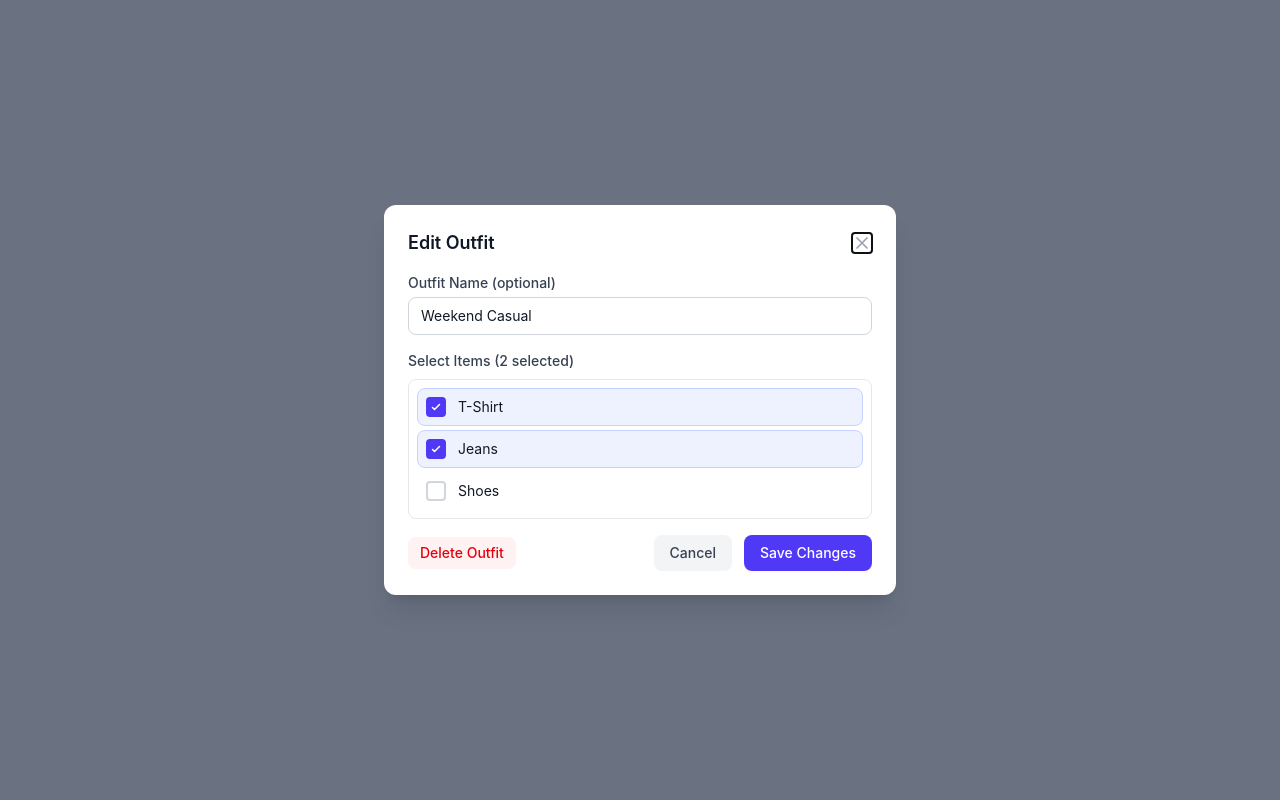
Test: CreateOutfitModal › cancels delete confirmation when Cancel is clicked
Click the button "Delete Outfit" at (462, 553), box [408, 537, 516, 569]
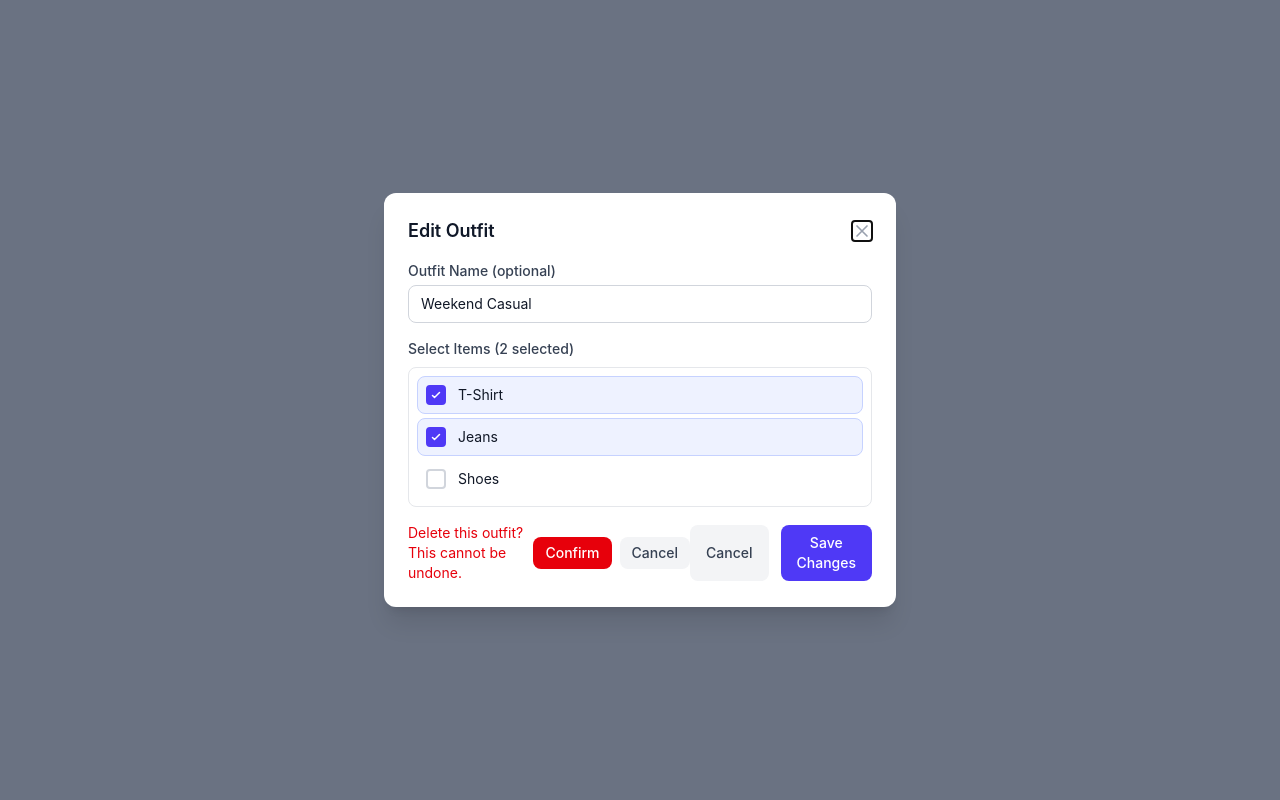
Click the first Cancel button (inline deletion confirmation Cancel)
Click the 1st button "Cancel" at (655, 553), box [620, 537, 690, 569]
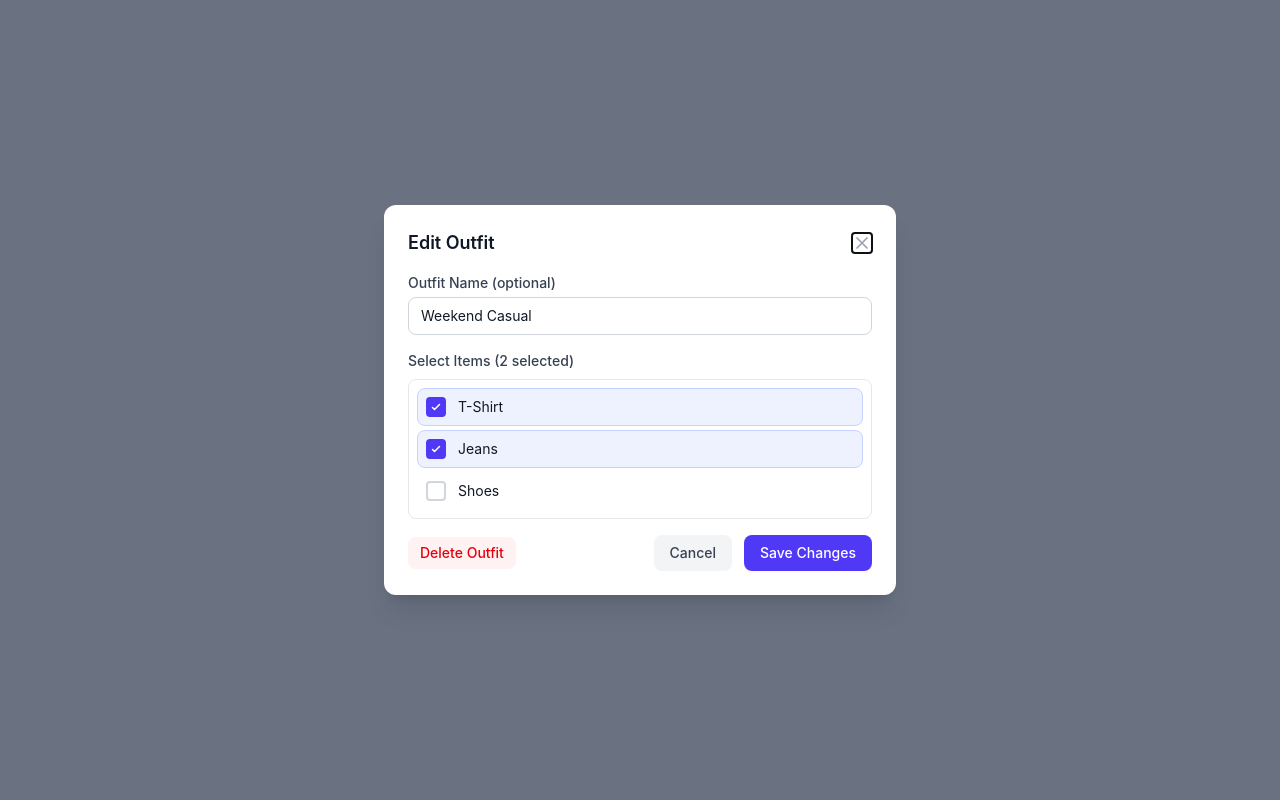
Now the button "Delete Outfit" is shown, box [408, 537, 516, 569]
Now the text "Delete this outfit? This cannot be undone." is gone
